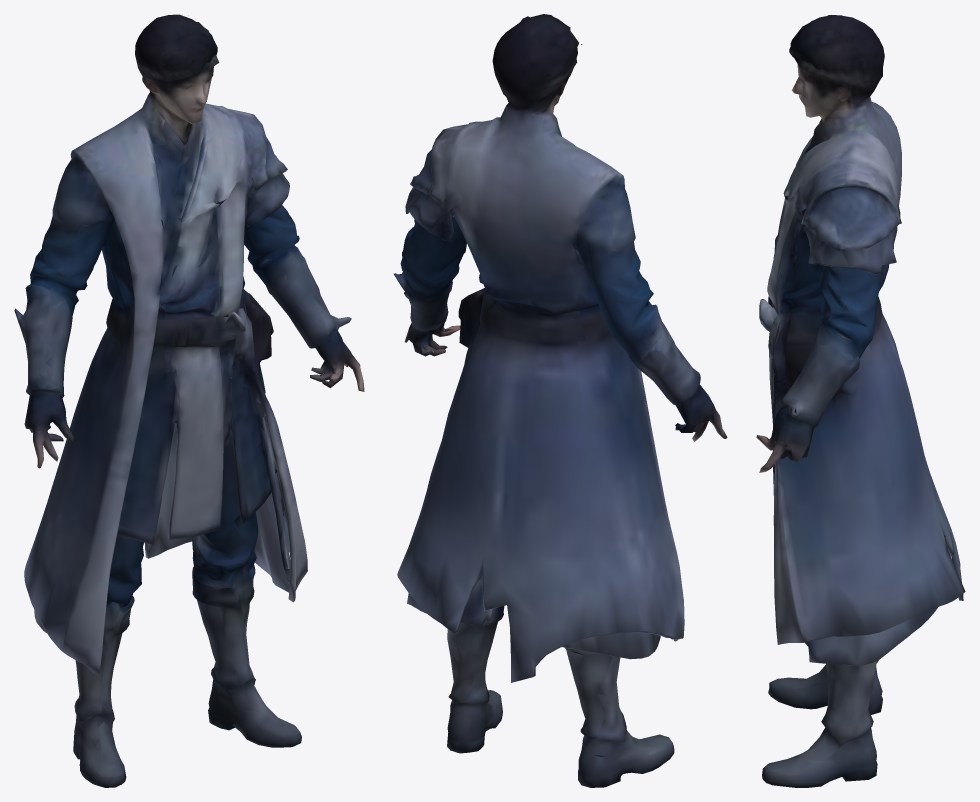
Rendered from outfit_light_inf_t1_m.glb.
The picture shows the model from 3 angles, left to right: view 1: azimuth 30°, elevation 25°; view 2: azimuth 150°, elevation 25°; view 3: azimuth 270°, elevation 25°; orthographic projection.
Visible parts, largest first — view 1: outfit_light_inf_t1_m; view 2: outfit_light_inf_t1_m; view 3: outfit_light_inf_t1_m.
Part boxes in pixels (left/top/right/bottom): outfit_light_inf_t1_m: left=14, top=14, right=364, bottom=787; outfit_light_inf_t1_m: left=393, top=14, right=727, bottom=787; outfit_light_inf_t1_m: left=756, top=15, right=965, bottom=787.
Bounding box in the file's own units: 0.8425 × 1.85 × 0.4824.
1 material, 1 textured.
